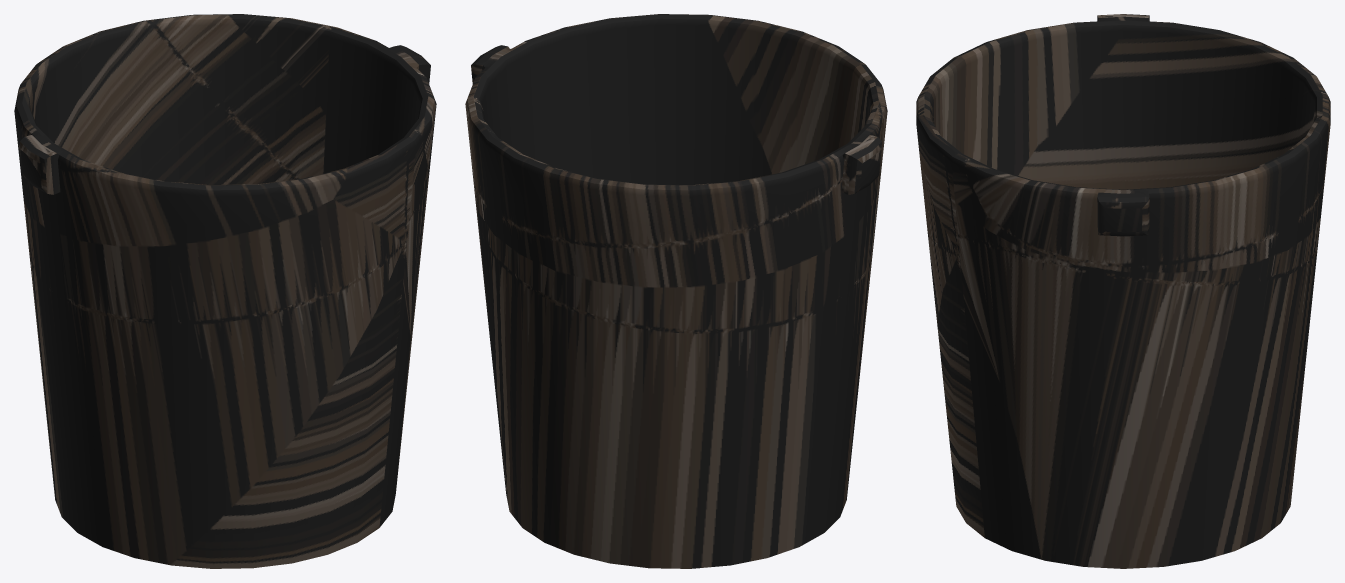
The model's file is SM_Bucket.gltf.
3 views of the same model, side by side, from view 1: azimuth 30°, elevation 25°; view 2: azimuth 150°, elevation 25°; view 3: azimuth 270°, elevation 25° (orthographic).
Parts seen in each view (by area): view 1: SM_Bucket; view 2: SM_Bucket; view 3: SM_Bucket.
Part boxes in pixels (x1,y1,x2,y2): SM_Bucket: (14,14,436,568); SM_Bucket: (465,14,887,568); SM_Bucket: (916,14,1330,568).
Size of the model in its own units: 0.4082 by 0.3948 by 0.3778.
